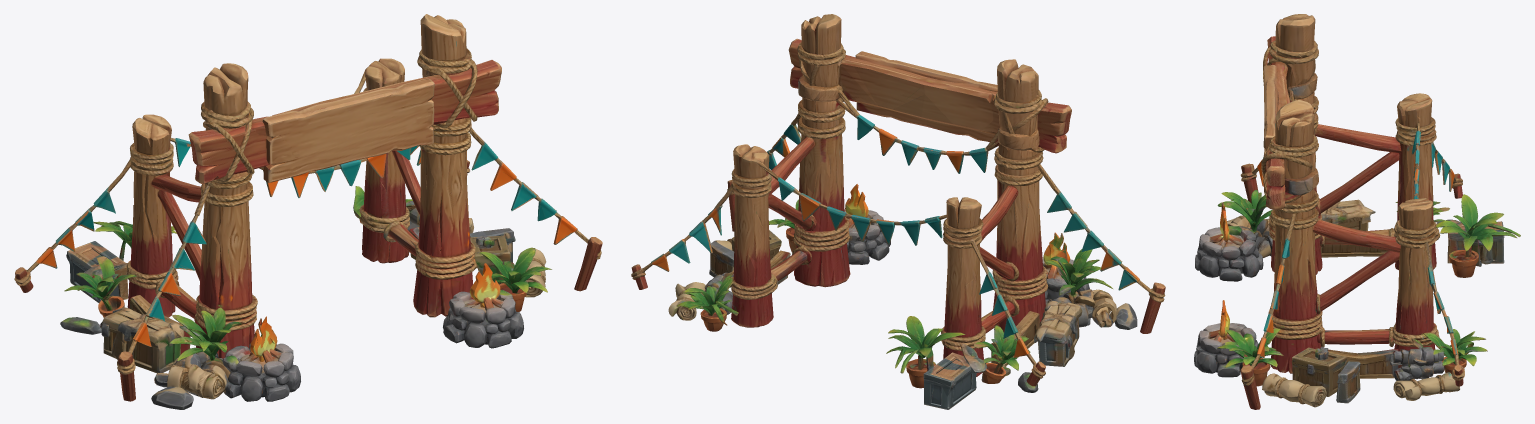
The model's file is gate.glb.
3 renders of one model, left to right at view 1: azimuth 30°, elevation 25°; view 2: azimuth 150°, elevation 25°; view 3: azimuth 270°, elevation 25°, orthographic. The views are drawn at different scales.
Bounding box in the file's own units: 1.9 × 1.09 × 1.26.
Materials: 1 (1 with a texture image).
